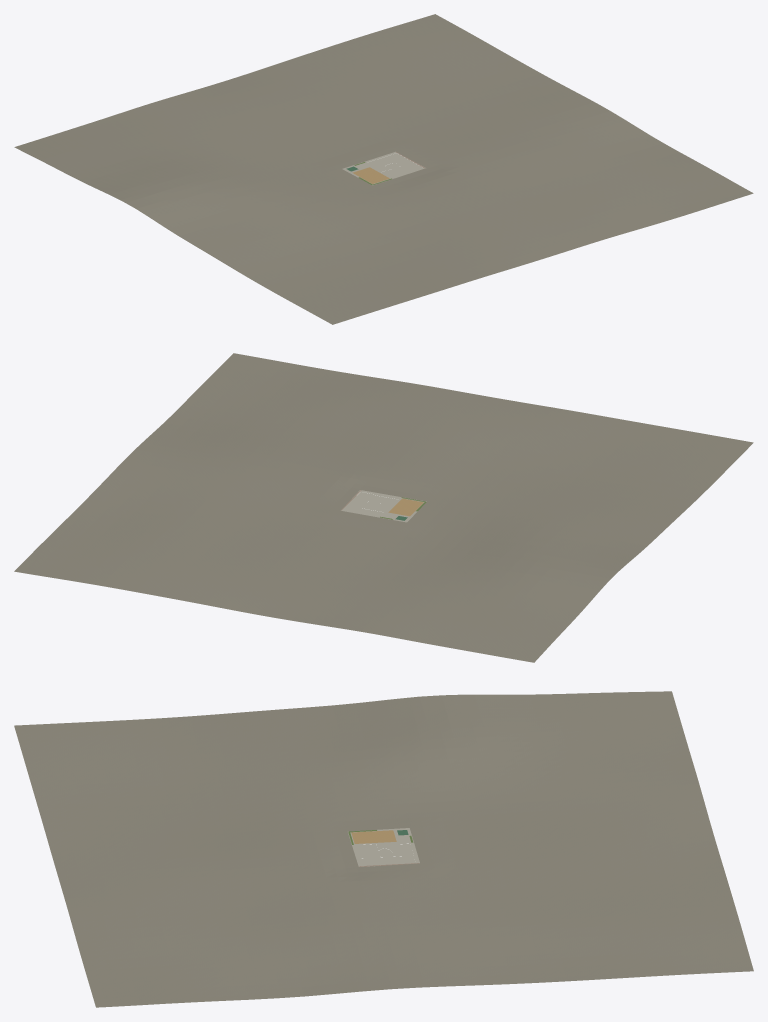
3 views of the same model, one above another, from view 1: azimuth 30°, elevation 25°; view 2: azimuth 150°, elevation 25°; view 3: azimuth 270°, elevation 25° (orthographic). The views are drawn at different scales.
Parts seen in each view (by area): view 1: ground_context-estimated, surface_school-paved-walk; view 2: ground_context-estimated, surface_school-paved-walk; view 3: ground_context-estimated, surface_school-paved-walk.
Boxes of the visible parts, box(x1,y1,x2,y2) form: ground_context-estimated: box(14, 14, 753, 324); surface_school-paved-walk: box(342, 151, 425, 185); ground_context-estimated: box(14, 353, 753, 662); surface_school-paved-walk: box(341, 490, 426, 522); ground_context-estimated: box(14, 691, 753, 1007); surface_school-paved-walk: box(348, 828, 419, 866).
Bounding box in the file's own units: 804 × 14.31 × 804.
Materials: 6 (6 with a texture image).
